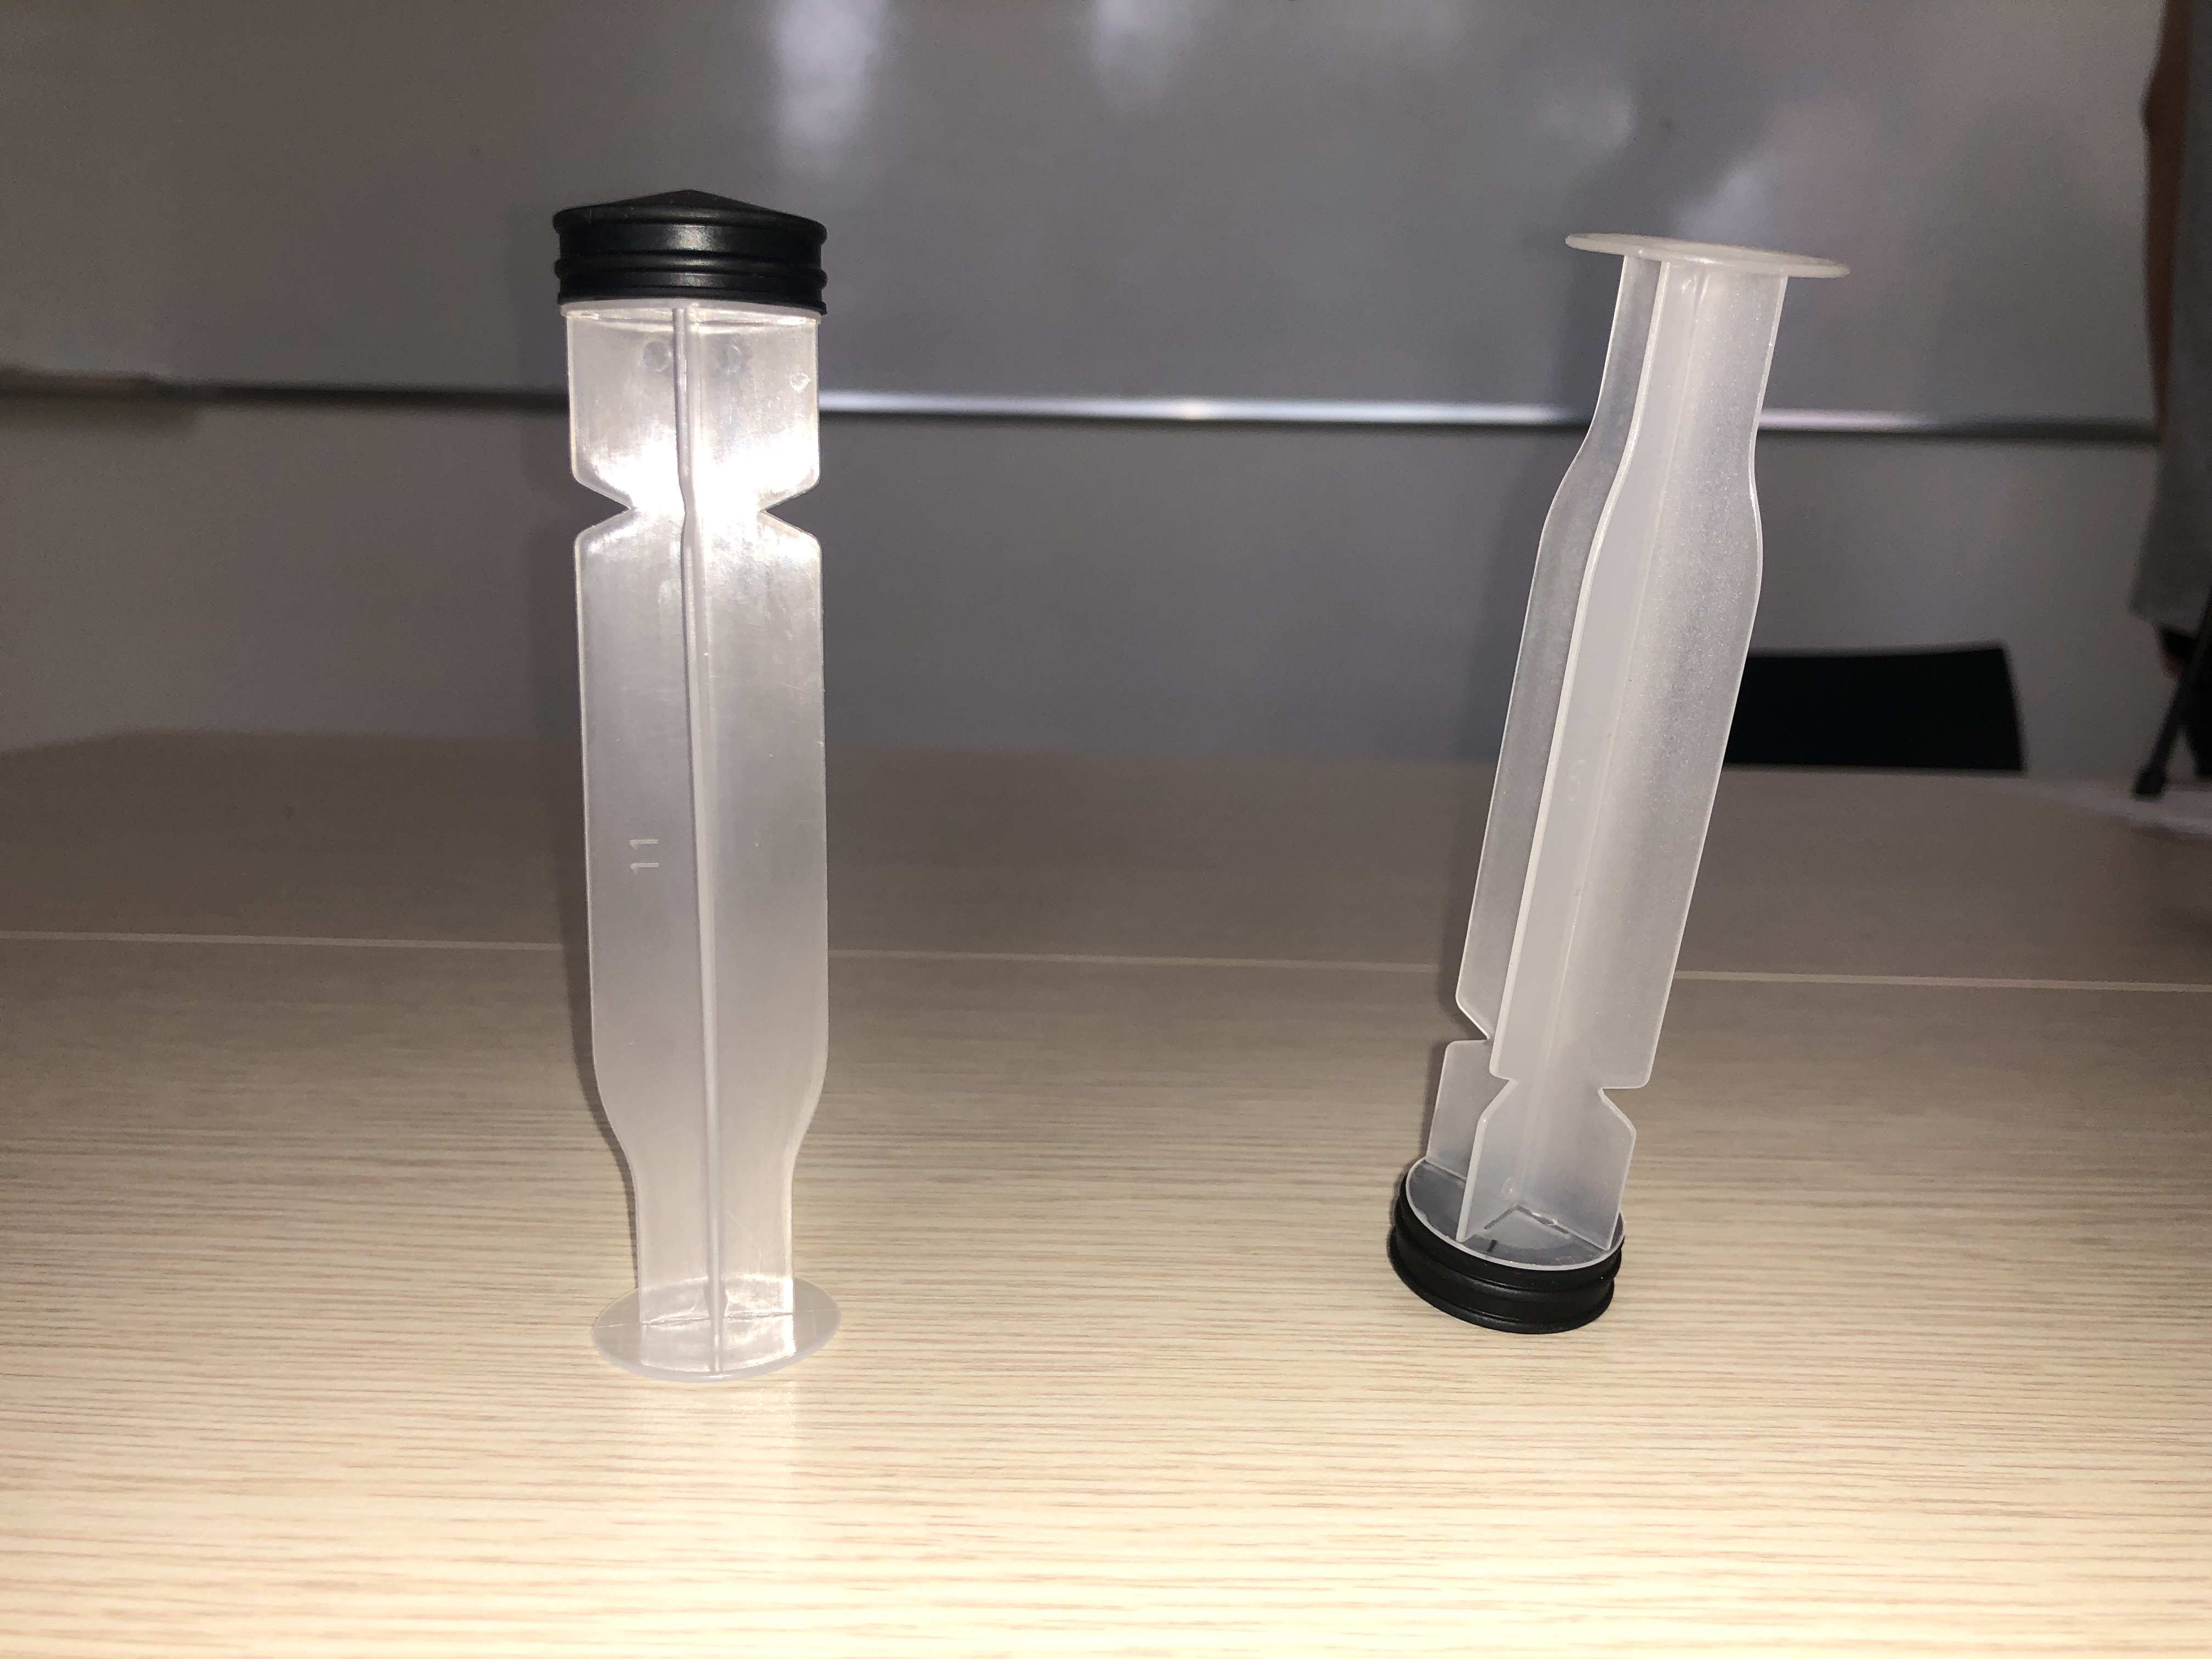plunger: (1378, 220, 1860, 1338), (531, 178, 862, 1382)
